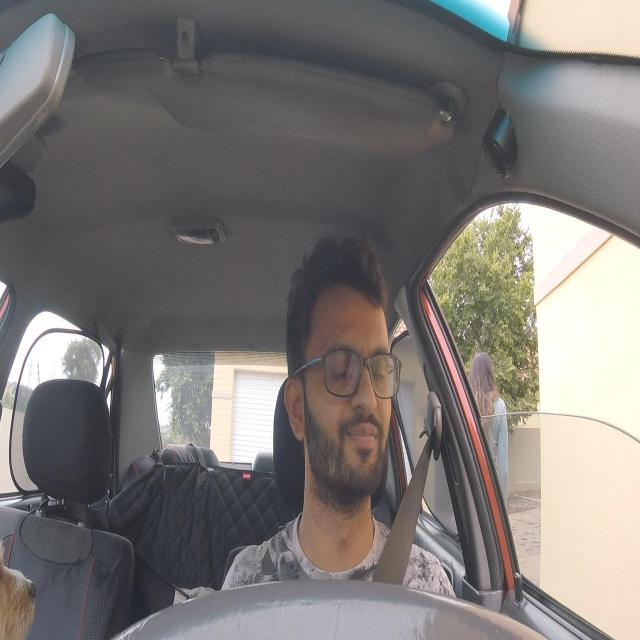close: (325, 341, 357, 392), (369, 345, 393, 392)
